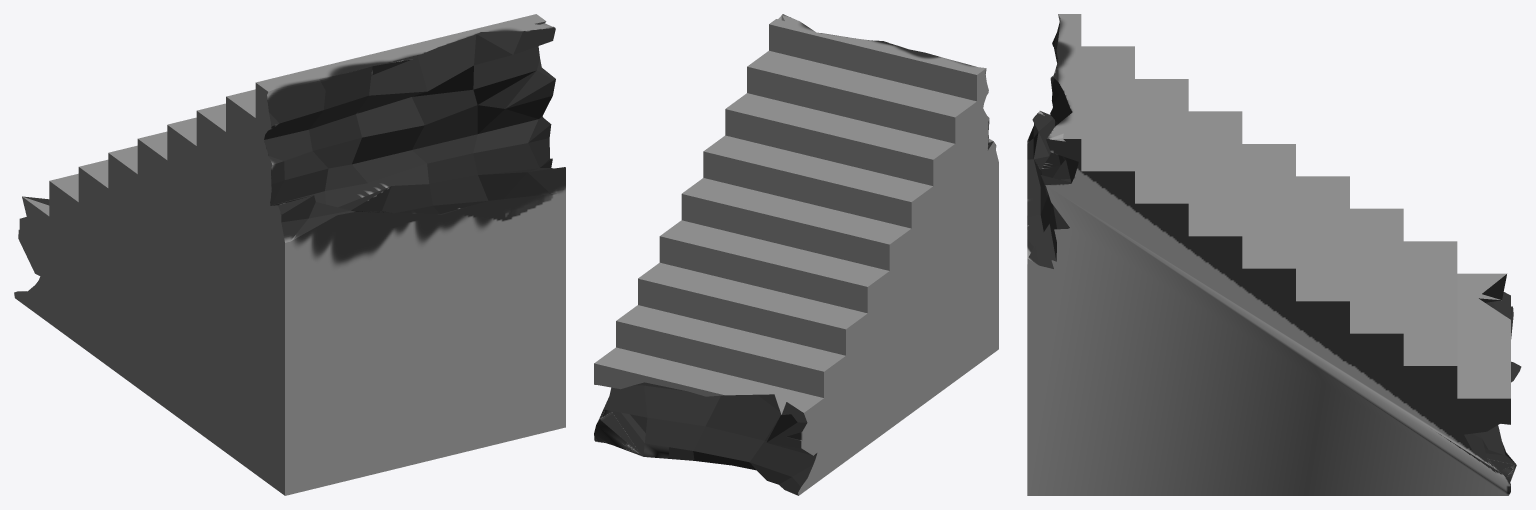
The model's file is merdiven_revize2.fbx.
3 views of the same model, side by side, from view 1: azimuth 30°, elevation 25°; view 2: azimuth 150°, elevation 25°; view 3: azimuth 270°, elevation 25° (orthographic). The views are drawn at different scales.
Parts seen in each view (by area): view 1: Stairs_0_35___1_.003; view 2: Stairs_0_35___1_.003; view 3: Stairs_0_35___1_.003.
Part boxes in pixels (x1,y1,x2,y2): Stairs_0_35___1_.003: (14, 14, 565, 495); Stairs_0_35___1_.003: (594, 14, 998, 495); Stairs_0_35___1_.003: (1027, 14, 1521, 495).
Bounding box in the file's own units: 3 × 4 × 5.01.
Materials: 1 (1 with a texture image).
